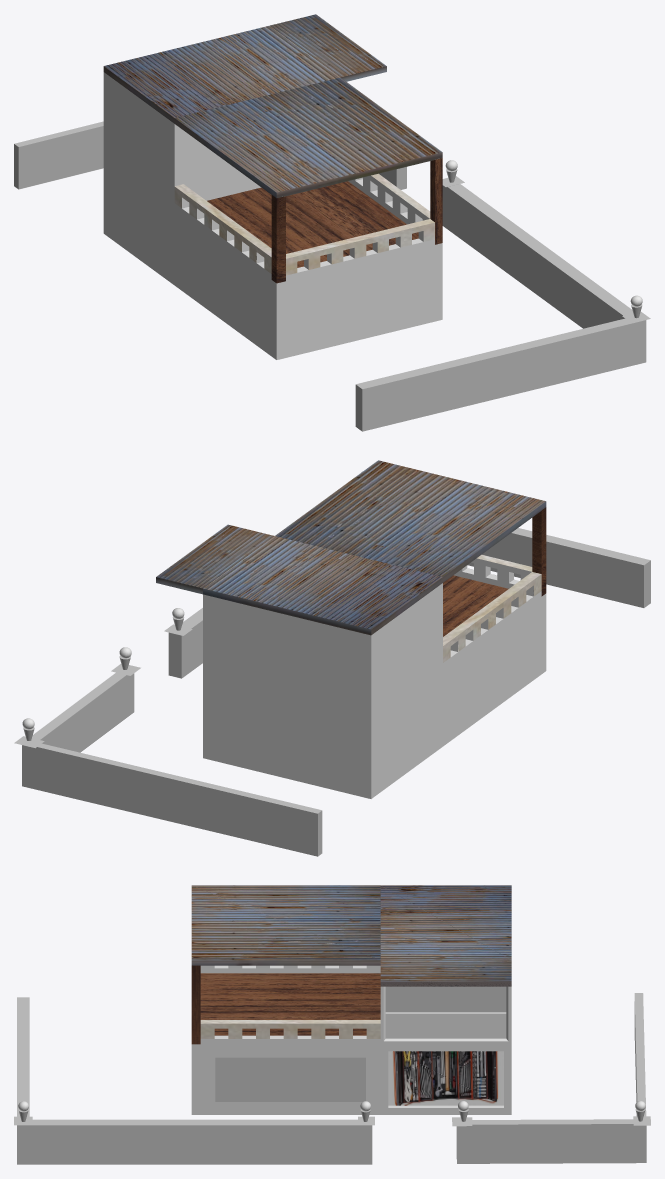
Rendered from Home1.fbx.
3 views of the same model, one above another, from view 1: azimuth 30°, elevation 25°; view 2: azimuth 150°, elevation 25°; view 3: azimuth 270°, elevation 25° (orthographic). The views are drawn at different scales.
Parts seen in each view (by area): view 1: Cube, ลูกบาศก์, ลูกบาศก์.001; view 2: Cube, ลูกบาศก์.001, ลูกบาศก์; view 3: Cube, ลูกบาศก์, ลูกบาศก์.001.
Part boxes in pixels (bbox=[...]): Cube: bbox=[103, 14, 442, 359]; ลูกบาศก์: bbox=[355, 176, 650, 431]; ลูกบาศก์.001: bbox=[14, 121, 406, 189]; Cube: bbox=[156, 460, 546, 798]; ลูกบาศก์.001: bbox=[14, 664, 322, 856]; ลูกบาศก์: bbox=[164, 528, 650, 678]; Cube: bbox=[191, 885, 511, 1114]; ลูกบาศก์: bbox=[14, 997, 374, 1164]; ลูกบาศก์.001: bbox=[452, 993, 650, 1163].
Bounding box in the file's own units: 810 × 437 × 1627.
